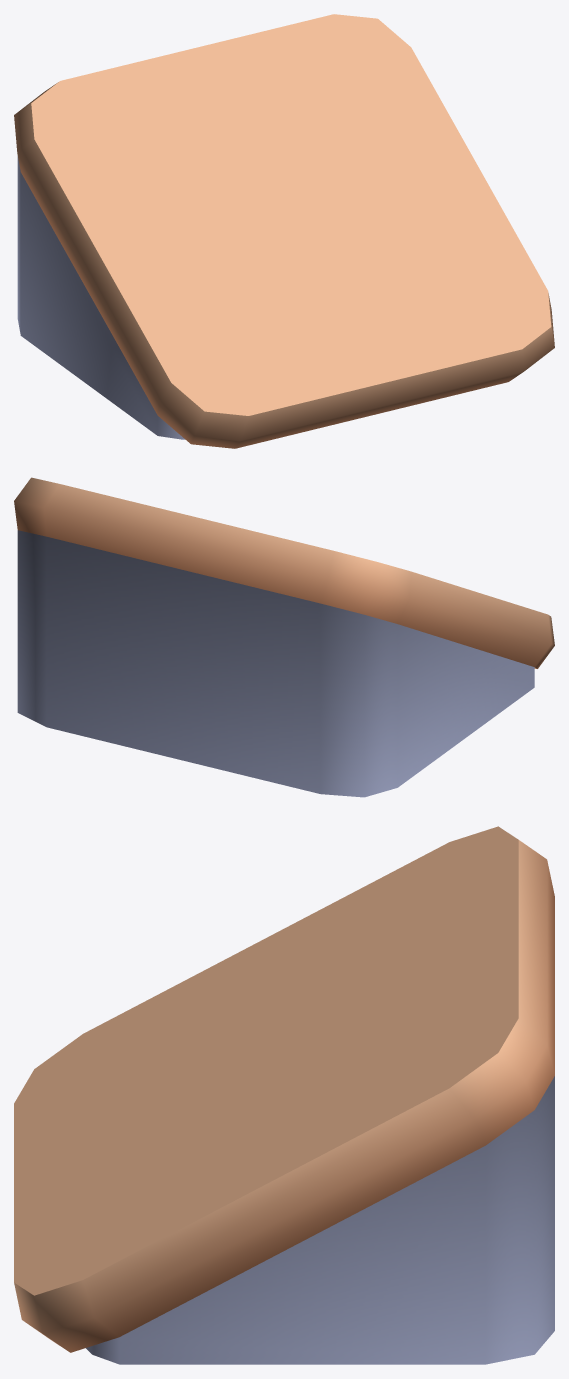
File: block-grass-large-slope-steep.glb
3 renders of one model, top to bottom at view 1: azimuth 30°, elevation 25°; view 2: azimuth 150°, elevation 25°; view 3: azimuth 270°, elevation 25°, orthographic. The views are drawn at different scales.
Visible parts, largest first — view 1: block-grass-large-slope-steep; view 2: block-grass-large-slope-steep; view 3: block-grass-large-slope-steep.
Part boxes in pixels (bbox=[...]): block-grass-large-slope-steep: bbox=[14, 14, 554, 448]; block-grass-large-slope-steep: bbox=[14, 477, 554, 797]; block-grass-large-slope-steep: bbox=[14, 826, 554, 1364].
Bounding box in the file's own units: 2.08 × 1.22 × 1.86.
